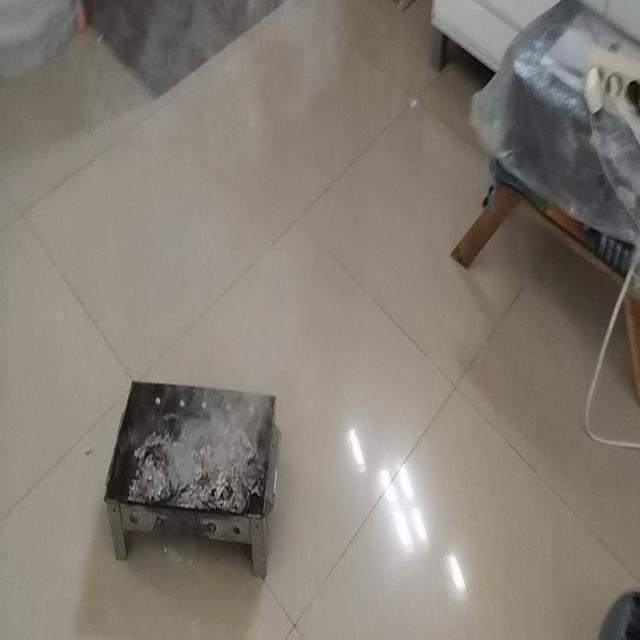fire: (98, 0, 348, 113), (183, 348, 270, 442)
